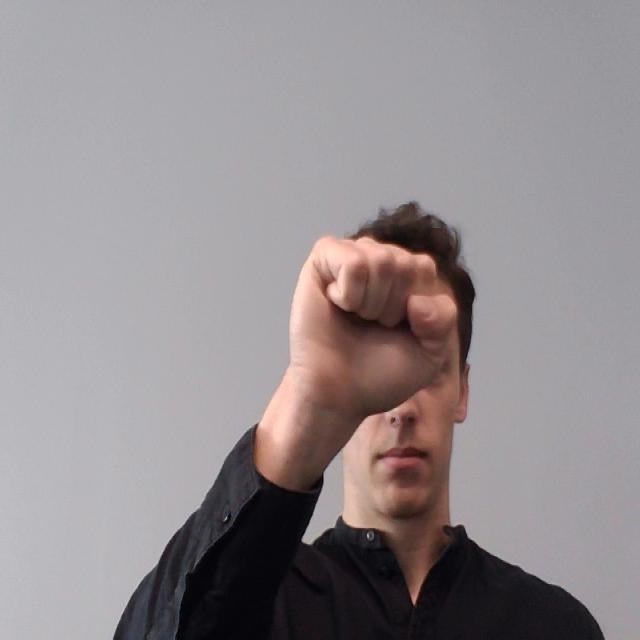stop: (274, 218, 460, 410)
